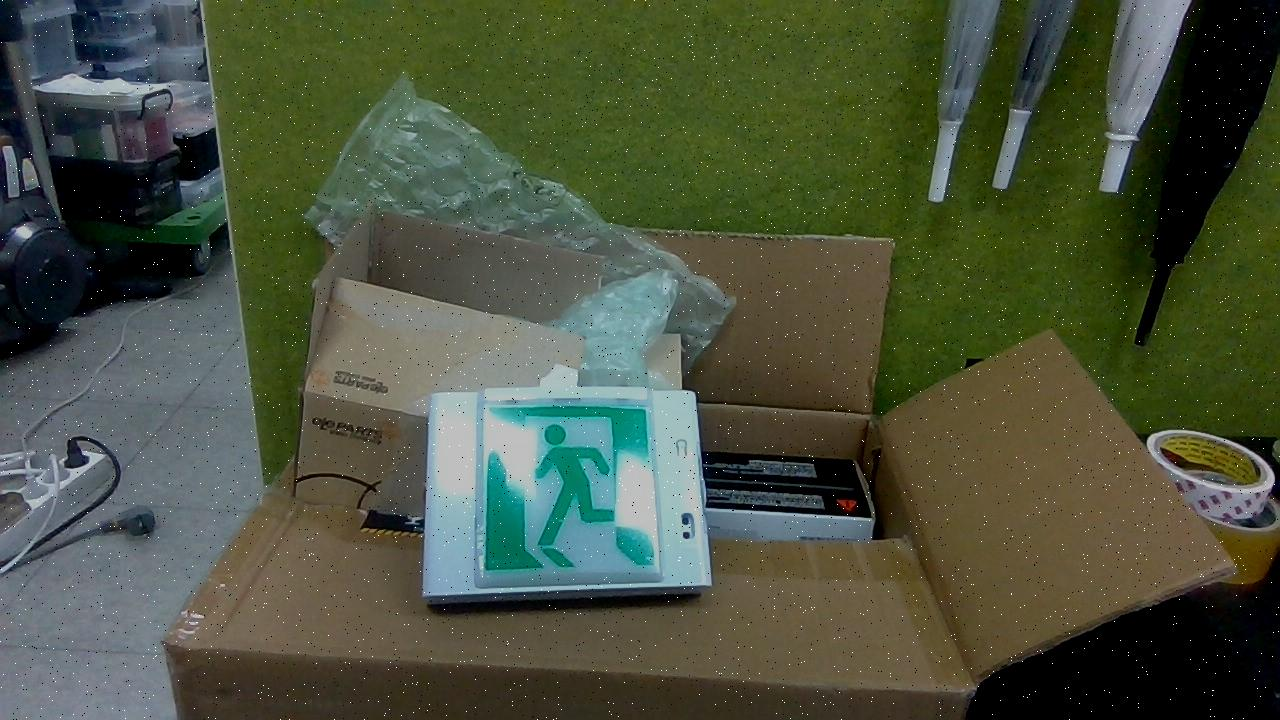emergency_exit: (420, 383, 714, 606)
